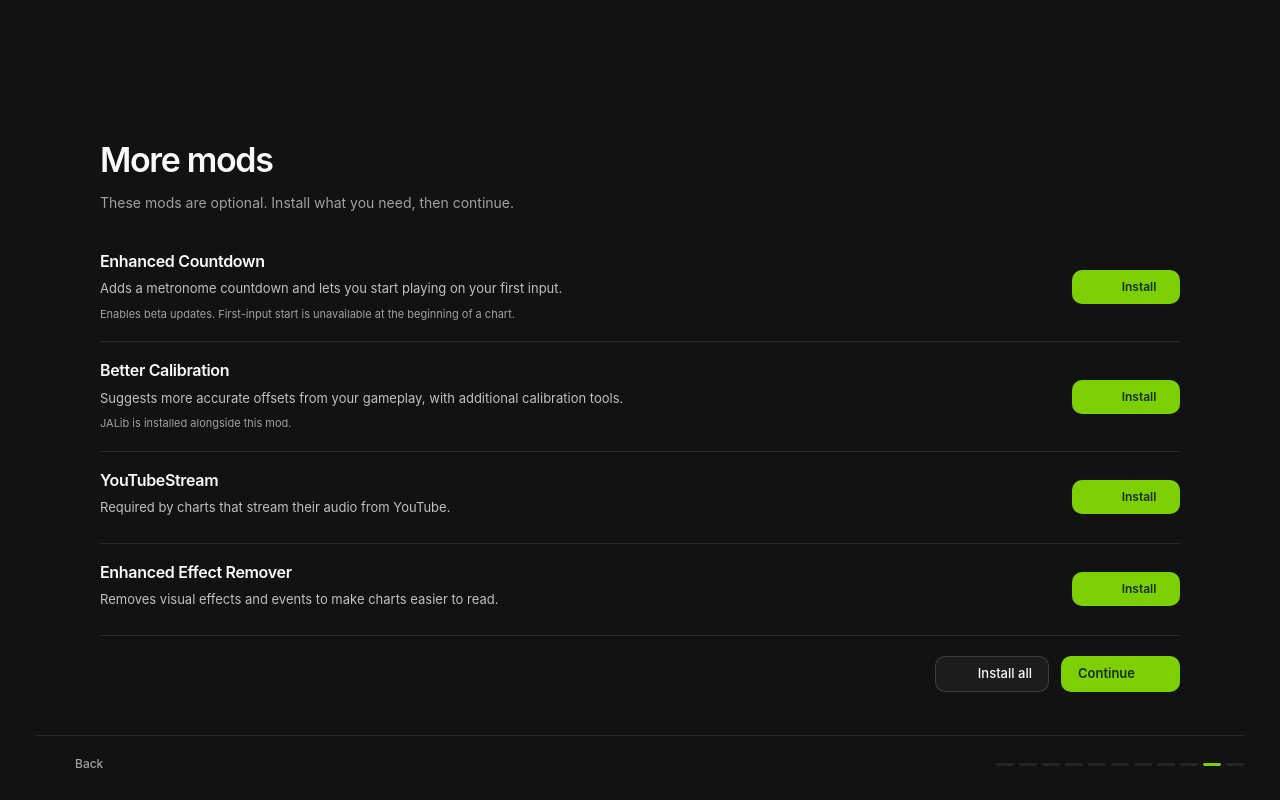
Test: desktop user journeys › installs all remaining mods on the more screen
Click the 1st button "Install".
click(1126, 287)  # box [1072, 270, 1180, 304]
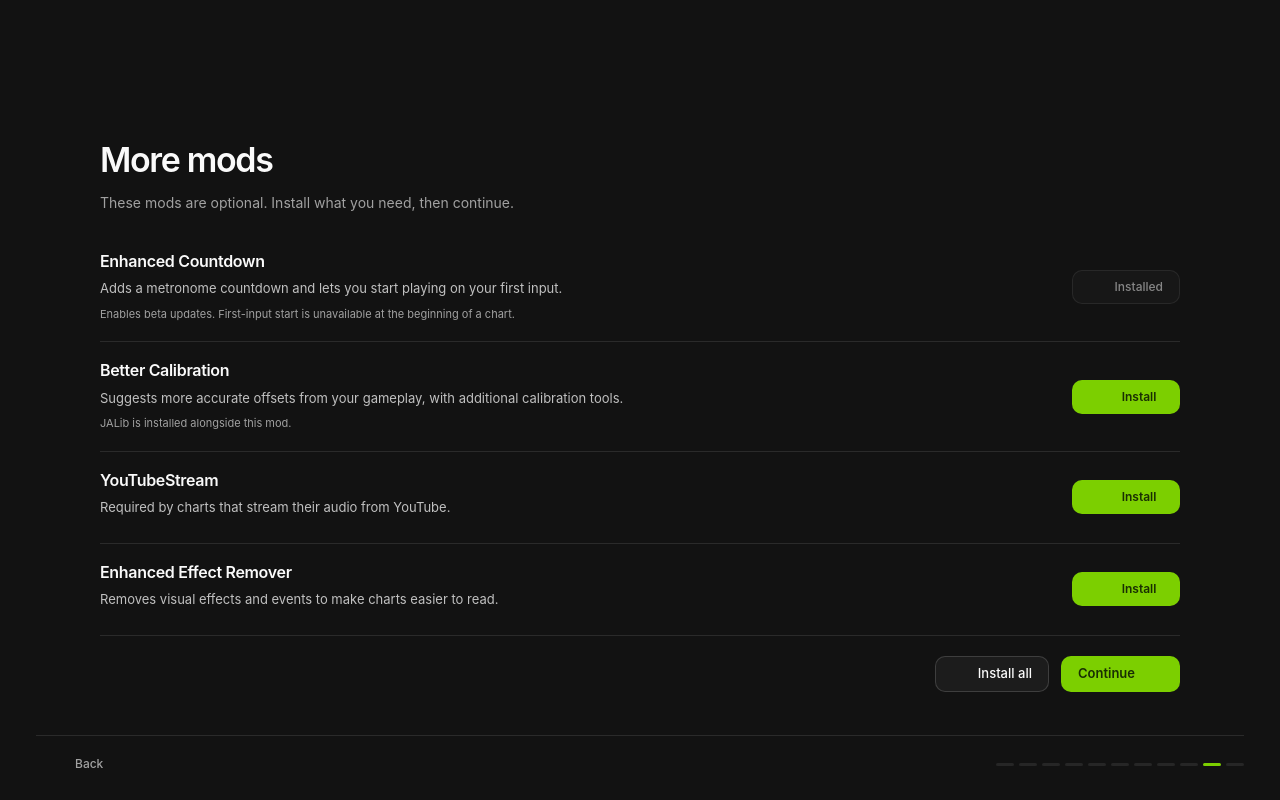
Click the button "Install all".
click(992, 674)  # box [935, 656, 1049, 692]
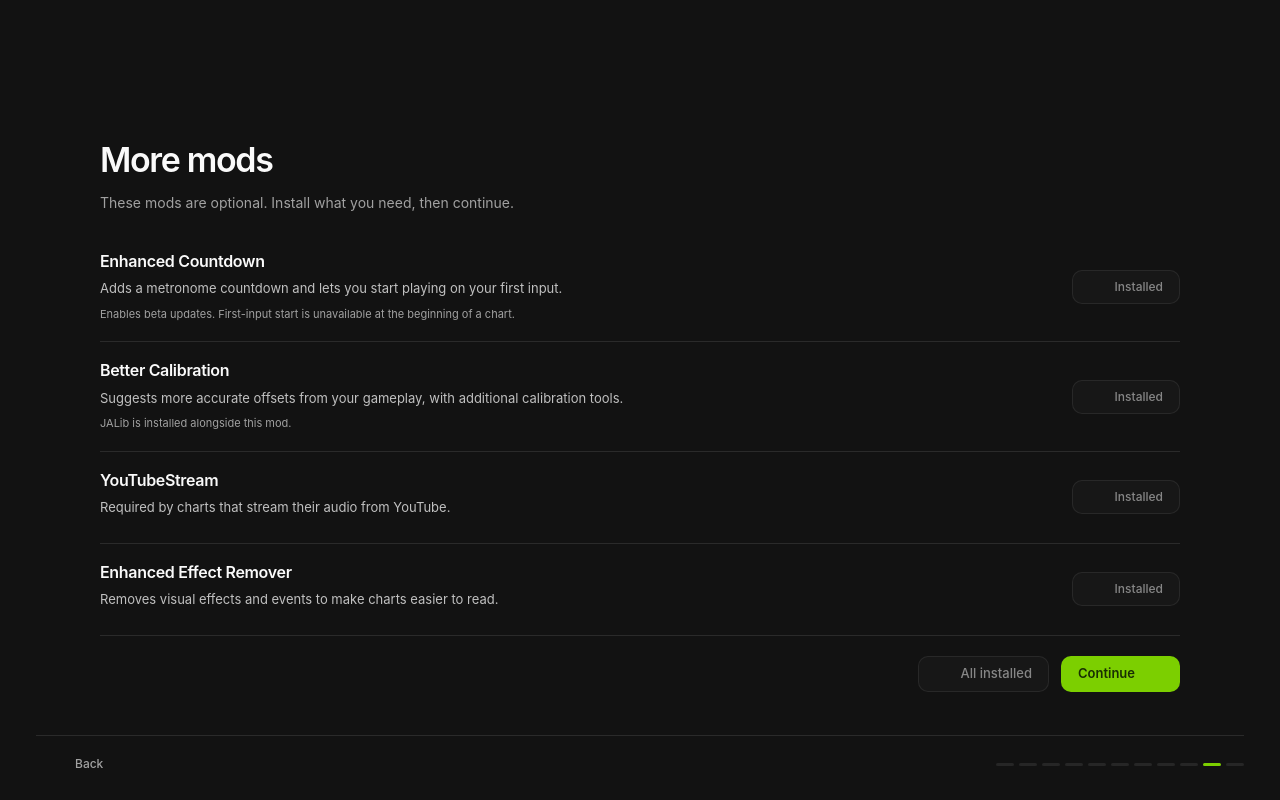
Expected: the button "Continue" is enabled, [1061, 656, 1180, 692]
Result: the button "All installed" is disabled at [918, 656, 1049, 692]
